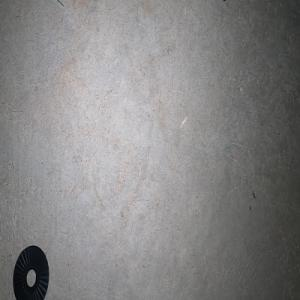Washer: (12, 245, 49, 300)
